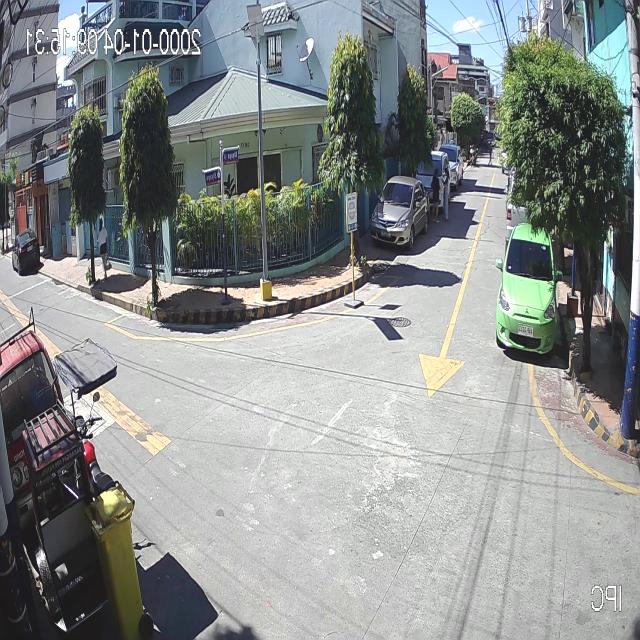standing: (439, 166, 452, 221), (430, 166, 442, 223)
walking: (96, 216, 109, 283), (486, 140, 494, 167)
